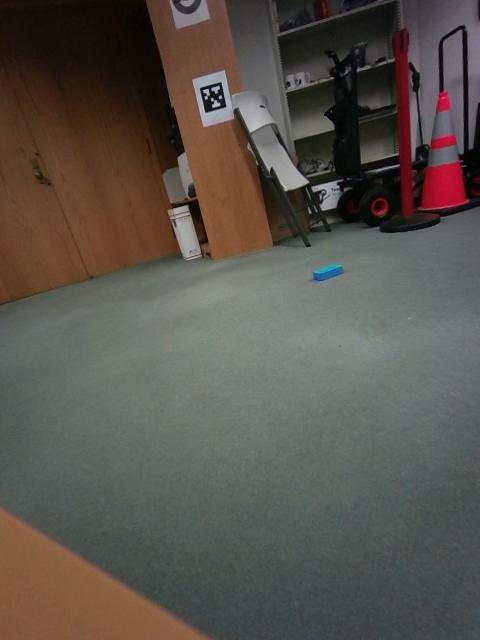block: (198, 298, 234, 350)
